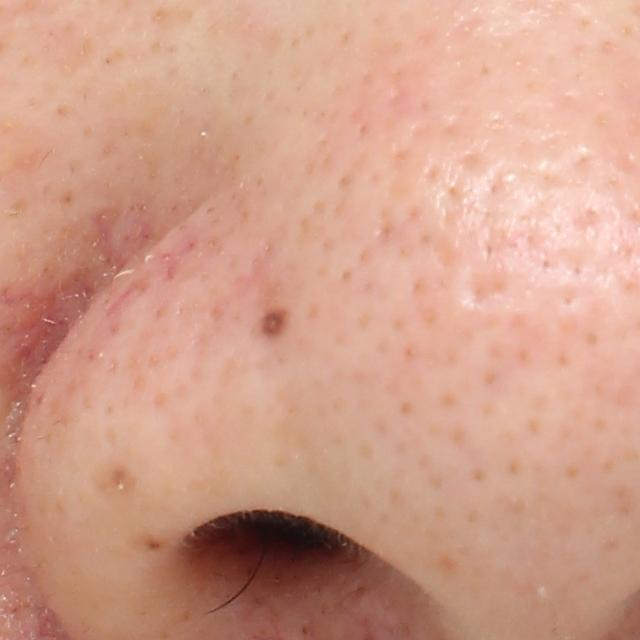atrophic_scar: (452, 266, 516, 309)
nevus: (249, 296, 294, 345)
